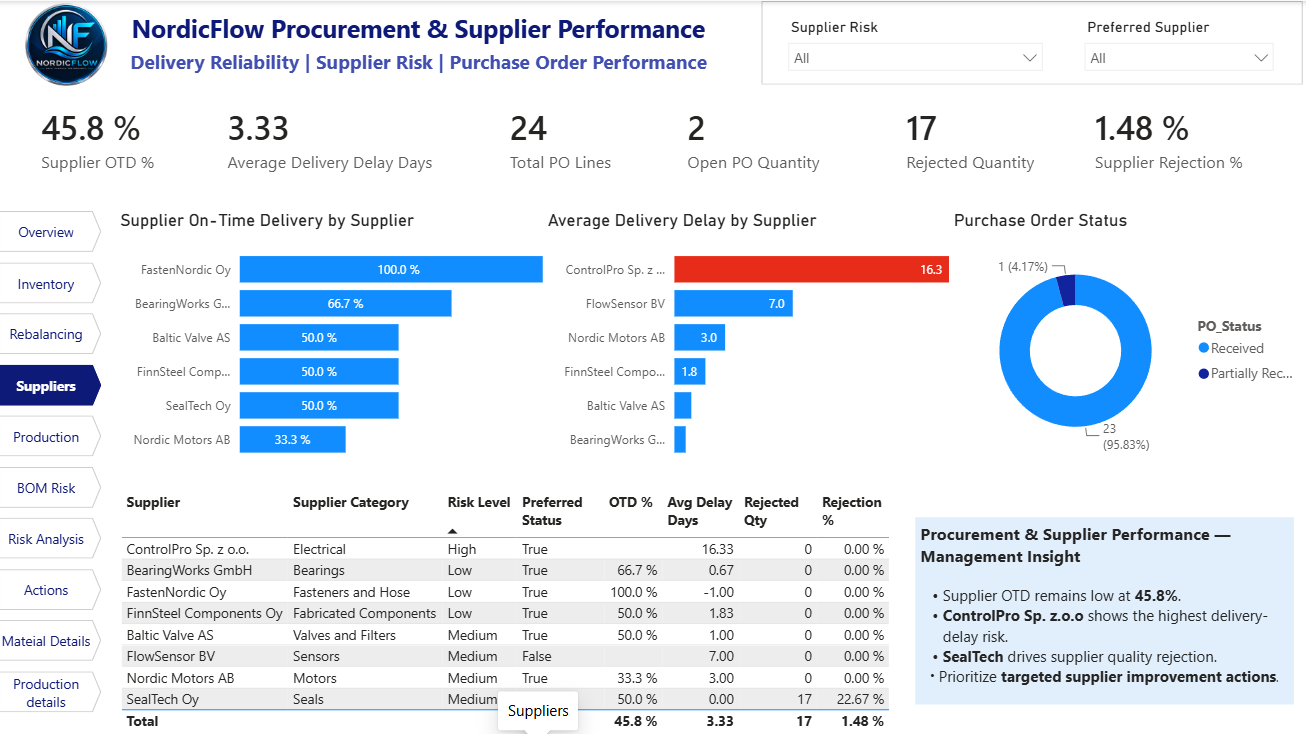

The page's visual inventory and layout, read from the dashboard file:
{"tool":"powerbi","page":{"name":"Suppliers","canvas":[1280,720],"ordinal":3},"visuals":[{"type":"shape","box":[745.7,0,466.1,82.1],"z":0},{"type":"textbox","box":[124.2,6,606.5,48.9],"z":1000},{"type":"textbox","box":[123.5,41.6,604.1,39.1],"z":2000},{"type":"cardVisual","fields":{"Data":["_Measures.Supplier OTD %"]},"box":[12.2,86.8,171.2,96.6],"z":3000},{"type":"cardVisual","fields":{"Data":["_Measures.Average Delivery Delay Days"]},"box":[194.4,86.8,266.6,96.6],"z":4000},{"type":"cardVisual","fields":{"Data":["_Measures.Total PO Lines"]},"box":[470.8,86.8,160.2,96.6],"z":5000},{"type":"cardVisual","fields":{"Data":["_Measures.Open PO Quantity"]},"box":[644.4,86.8,203,96.6],"z":6000},{"type":"cardVisual","fields":{"Data":["_Measures.Rejected Quantity"]},"box":[858.4,86.8,184.6,96.6],"z":7000},{"type":"cardVisual","fields":{"Data":["_Measures.Supplier Rejection %"]},"box":[1043.1,86.8,228.7,96.6],"z":8000},{"type":"clusteredBarChart","title":"Supplier On-Time Delivery by Supplier","fields":{"Category":["Dim_supplier.Supplier_Name"],"Y":["_Measures.Supplier OTD %"]},"box":[113.7,204.2,437.8,251.9],"z":9000},{"type":"clusteredBarChart","title":"Average Delivery Delay by Supplier","fields":{"Category":["Dim_supplier.Supplier_Name"],"Y":["_Measures.Average Delivery Delay Days"]},"box":[531.9,204.2,459.8,251.9],"z":10000},{"type":"donutChart","title":"Purchase Order Status","fields":{"Category":["Fact_purchase_orders.PO_Status"],"Y":["_Measures.Total PO Lines"]},"box":[929.4,204.2,351,251.9],"z":11000},{"type":"tableEx","fields":{"Values":["Dim_supplier.Supplier_Name","Dim_supplier.Supplier_Category","Dim_supplier.Risk_Level","Dim_supplier.Preferred_Status","_Measures.Supplier OTD %","_Measures.Average Delivery Delay Days","_Measures.Rejected Quantity","_Measures.Supplier Rejection %"]},"box":[113.7,474.5,765.5,245.8],"z":12000},{"type":"slicer","fields":{"Values":["Dim_supplier.Risk_Level"]},"box":[762.4,12.5,201.7,58.4],"z":13000},{"type":"slicer","fields":{"Values":["Dim_supplier.Preferred_Status"]},"box":[976.7,12.5,224,58.4],"z":14000},{"type":"textbox","box":[896.3,505,370.5,183.4],"z":15000},{"type":"image","box":[0,0,132.1,88],"z":16000},{"type":"pageNavigator","box":[0,205.4,100.3,492.8],"z":17000},{"type":"actionButton","box":[1232.7,23.7,41.7,40.3],"z":17001}]}

Visuals, with their boxes on the page's 1280x720 design canvas (x1, y1, x2, y2). These are canvas units, not pixel positions in the 1306x734 screenshot, which may show the page scaled, cropped or inside an application window:
shape: bbox(746, 0, 1212, 82)
textbox: bbox(124, 6, 731, 55)
textbox: bbox(124, 42, 728, 81)
cardVisual - _Measures.Supplier OTD %: bbox(12, 87, 183, 183)
cardVisual - _Measures.Average Delivery Delay Days: bbox(194, 87, 461, 183)
cardVisual - _Measures.Total PO Lines: bbox(471, 87, 631, 183)
cardVisual - _Measures.Open PO Quantity: bbox(644, 87, 847, 183)
cardVisual - _Measures.Rejected Quantity: bbox(858, 87, 1043, 183)
cardVisual - _Measures.Supplier Rejection %: bbox(1043, 87, 1272, 183)
"Supplier On-Time Delivery by Supplier" clusteredBarChart: bbox(114, 204, 552, 456)
"Average Delivery Delay by Supplier" clusteredBarChart: bbox(532, 204, 992, 456)
"Purchase Order Status" donutChart: bbox(929, 204, 1280, 456)
tableEx - Dim_supplier.Supplier_Name x Dim_supplier.Supplier_Category: bbox(114, 474, 879, 720)
slicer - Dim_supplier.Risk_Level: bbox(762, 12, 964, 71)
slicer - Dim_supplier.Preferred_Status: bbox(977, 12, 1201, 71)
textbox: bbox(896, 505, 1267, 688)
image: bbox(0, 0, 132, 88)
pageNavigator: bbox(0, 205, 100, 698)
actionButton: bbox(1233, 24, 1274, 64)
